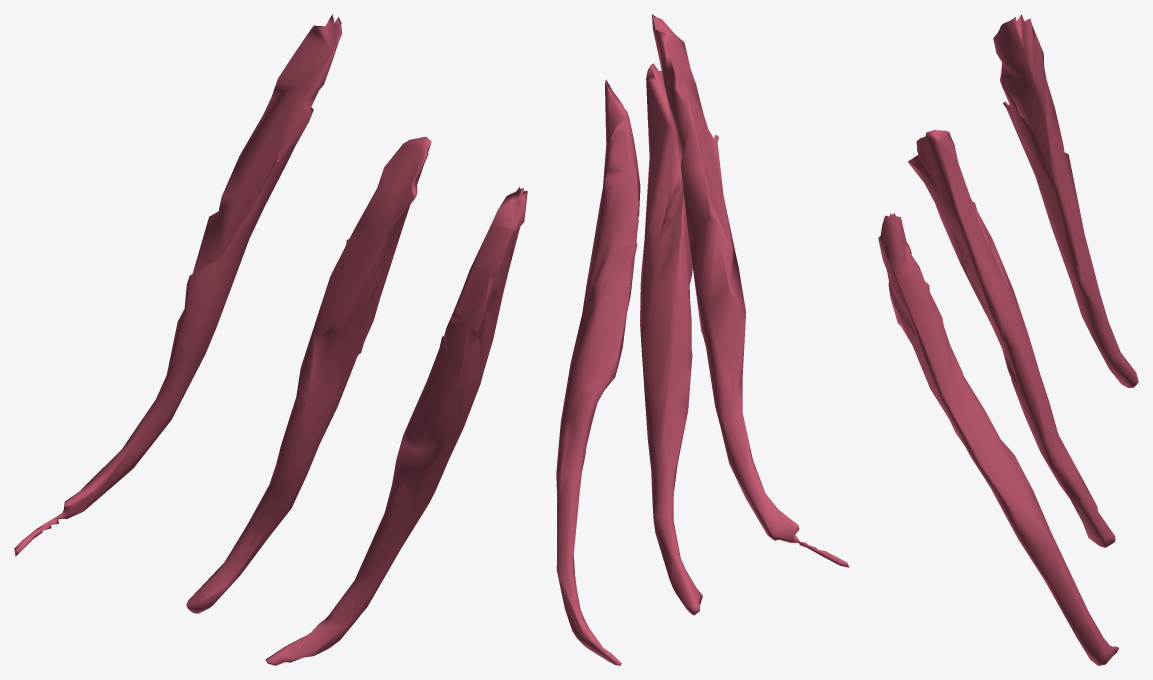
3 renders of one model, left to right at view 1: azimuth 30°, elevation 25°; view 2: azimuth 150°, elevation 25°; view 3: azimuth 270°, elevation 25°, orthographic. The views are drawn at different scales.
Visible parts, largest first — view 1: 右侧骨间足底肌; view 2: 右侧骨间足底肌; view 3: 右侧骨间足底肌.
Boxes of the visible parts, <box> form: 右侧骨间足底肌: <box>14,14,527,665</box>; 右侧骨间足底肌: <box>556,14,849,665</box>; 右侧骨间足底肌: <box>878,14,1138,665</box>.
Bounding box in the file's own units: 0.0633 × 0.1058 × 0.0387.
